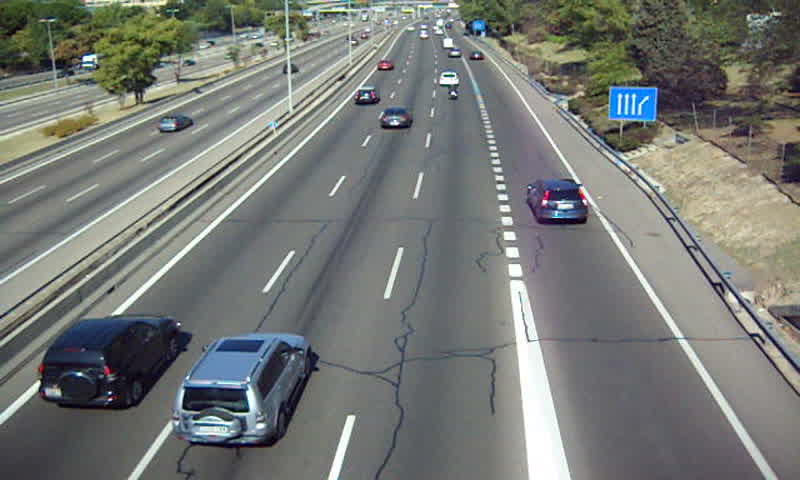car: (174, 333, 311, 448), (40, 313, 173, 409), (525, 178, 590, 224), (380, 107, 414, 131), (354, 87, 381, 108), (438, 71, 460, 86), (377, 59, 396, 71)
motorcycle: (447, 83, 459, 100)
